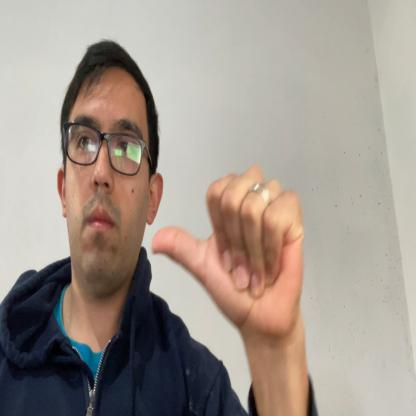A: (151, 163, 304, 344)
